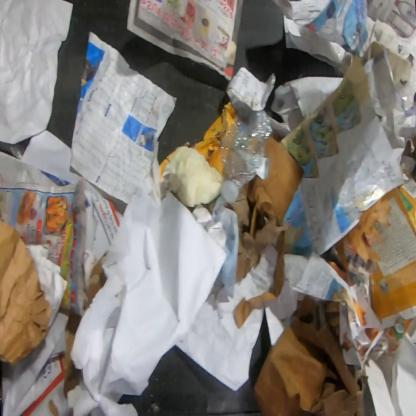cardboard: (252, 294, 362, 416), (233, 224, 306, 329), (247, 132, 305, 238), (189, 102, 238, 174)
rigid_plastic: (218, 104, 272, 204)
